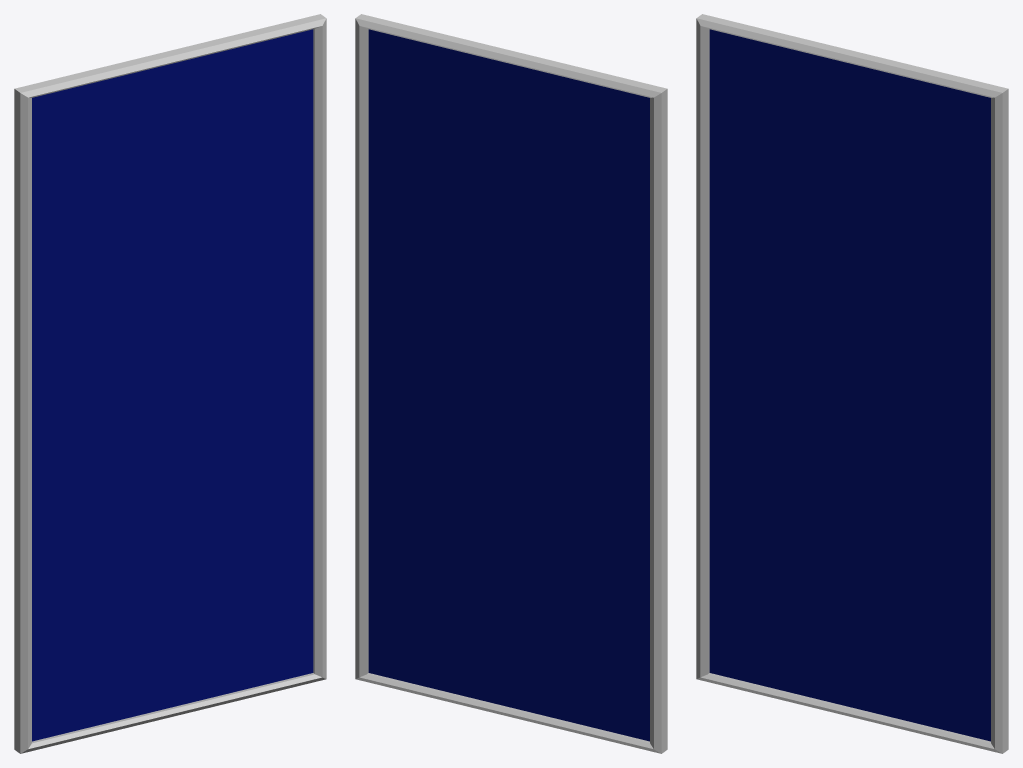
Rendered from Teleport.fbx.
3 views of the same model, side by side, from view 1: azimuth 30°, elevation 25°; view 2: azimuth 150°, elevation 25°; view 3: azimuth 330°, elevation 25° (orthographic).
Parts seen in each view (by area): view 1: Mesh; view 2: Mesh; view 3: Mesh.
Boxes of the visible parts, <box> form: Mesh: <box>14,14,326,753</box>; Mesh: <box>355,14,667,753</box>; Mesh: <box>696,14,1008,753</box>.
Size of the model in its own units: 115 by 238 by 6.35.
